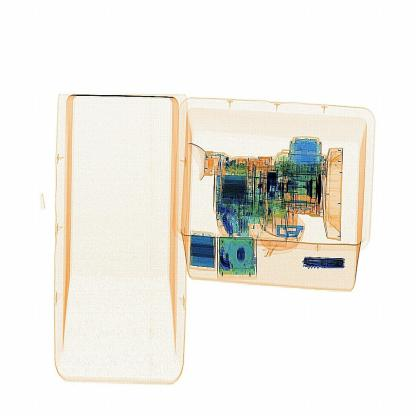scissors: (296, 255, 344, 273)
